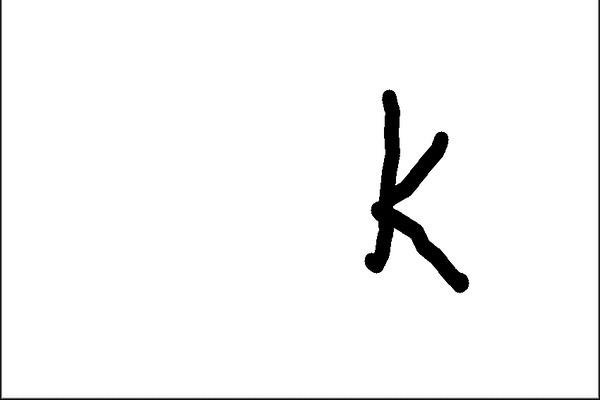K: (359, 84, 474, 299)
